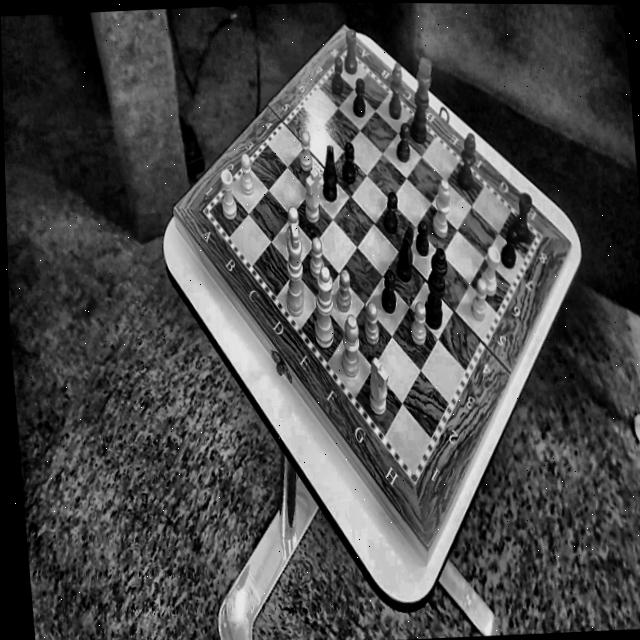chessboard: (211, 55, 535, 469)
